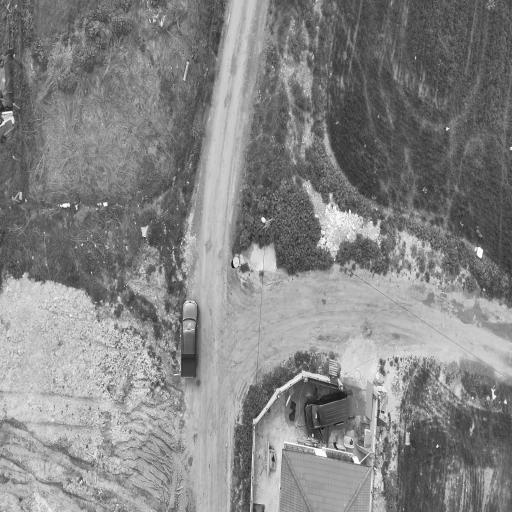car: (304, 390, 351, 430), (180, 301, 198, 377)
